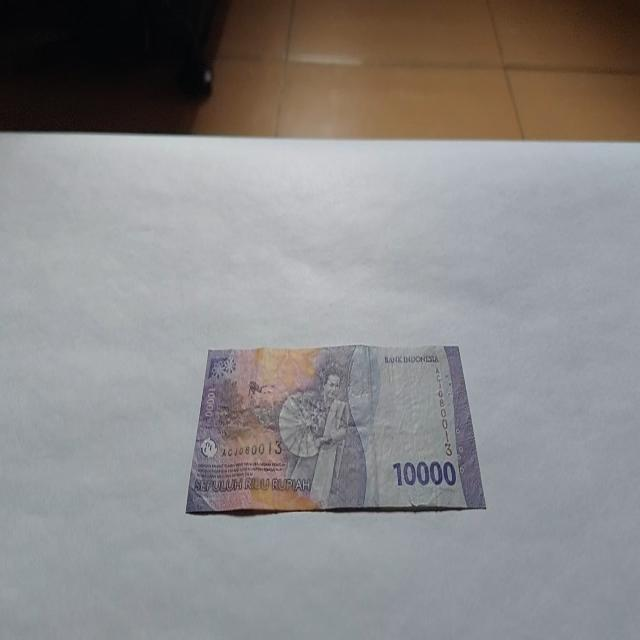sepuluh ribu rupiah: (184, 342, 486, 516)
